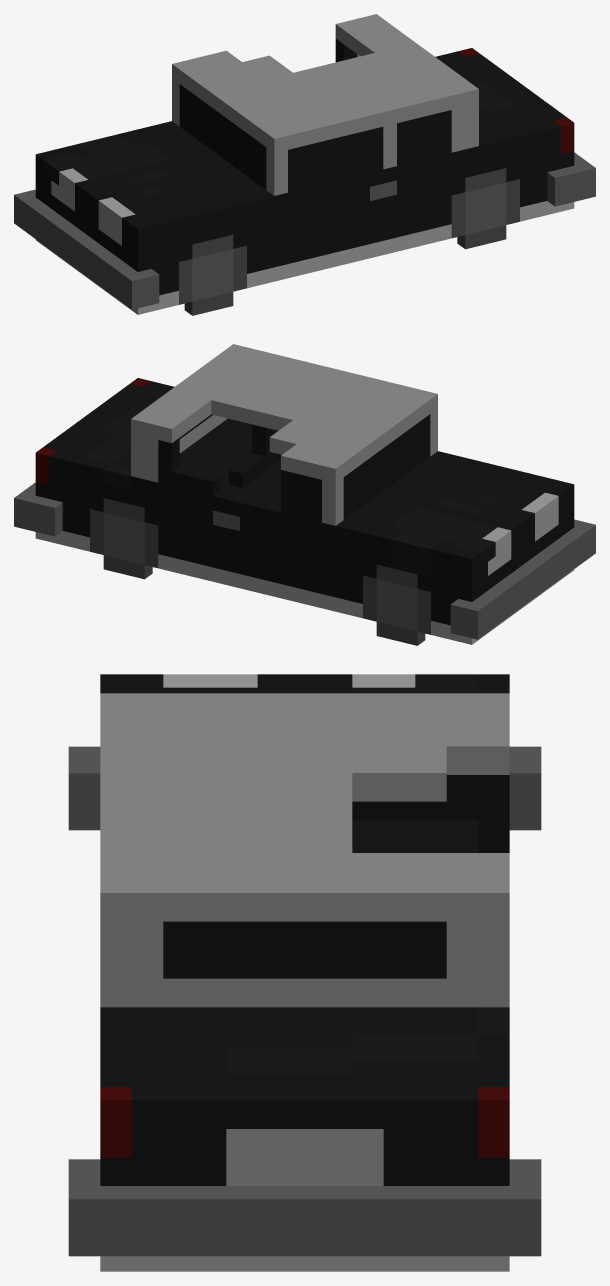
The model's file is voiture1blackdestroyed.obj.
3 views of the same model, one above another, from view 1: azimuth 30°, elevation 25°; view 2: azimuth 150°, elevation 25°; view 3: azimuth 270°, elevation 25° (orthographic). The views are drawn at different scales.
Parts seen in each view (by area): view 1: voiture1blackdestroyed; view 2: voiture1blackdestroyed; view 3: voiture1blackdestroyed.
Part boxes in pixels (left/top/right/bottom): voiture1blackdestroyed: left=14, top=14, right=595, bottom=315; voiture1blackdestroyed: left=14, top=344, right=595, bottom=645; voiture1blackdestroyed: left=68, top=674, right=541, bottom=1271.
Size of the model in its own units: 34 by 11 by 15.
1 material, 1 textured.
